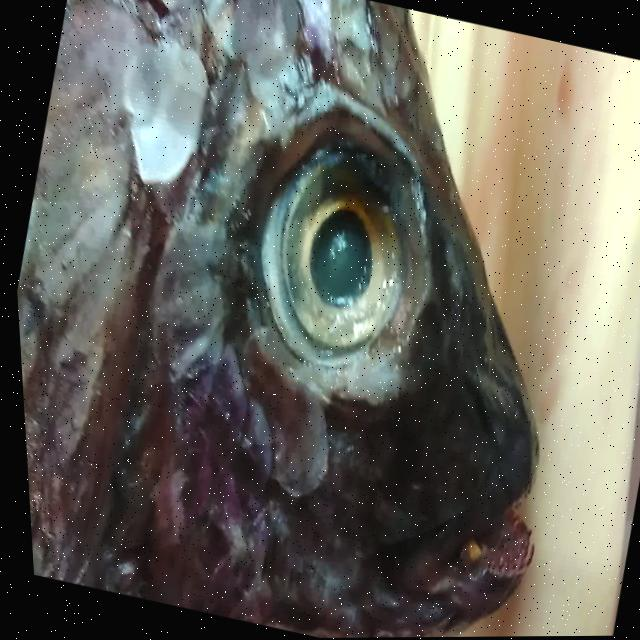Non-Fresh: (191, 104, 475, 425)
